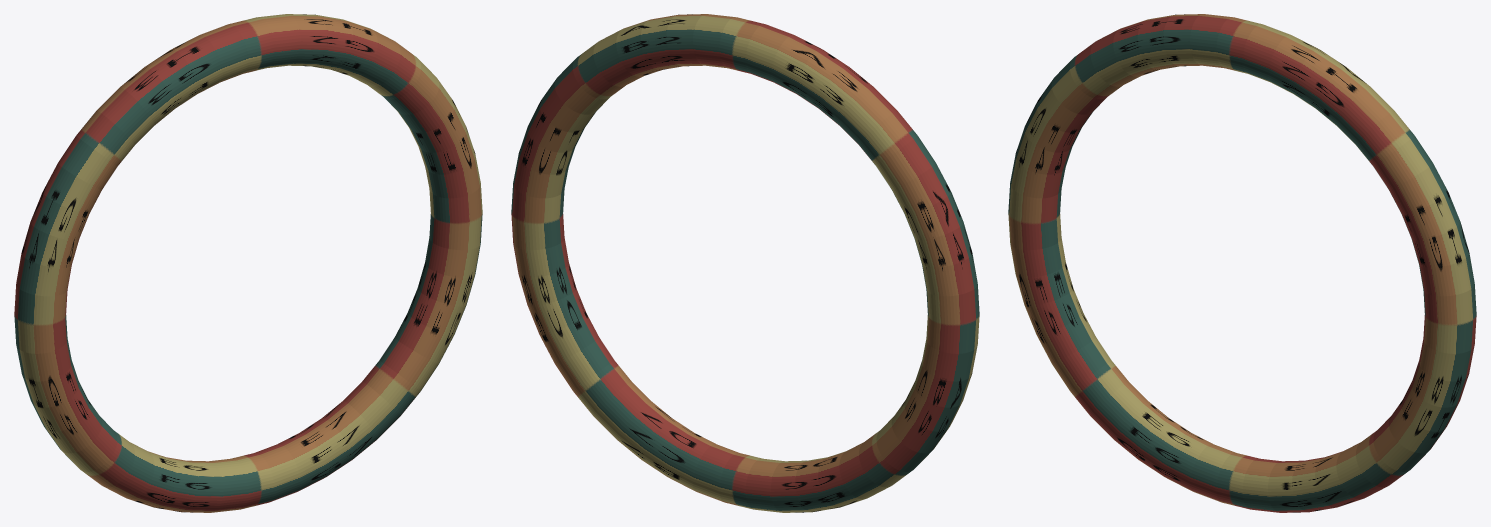
The model's file is texture_torus_R24_r3.glb.
The picture shows the model from 3 angles, left to right: view 1: azimuth 30°, elevation 25°; view 2: azimuth 150°, elevation 25°; view 3: azimuth 330°, elevation 25°; orthographic projection.
Visible parts, largest first — view 1: world; view 2: world; view 3: world.
Boxes of the visible parts, x1,y1,x2,y2 form: world: (14, 14, 482, 512); world: (511, 14, 979, 512); world: (1008, 14, 1476, 512).
Size of the model in its own units: 28.8 by 28.74 by 2.79.
1 material, 1 textured.
